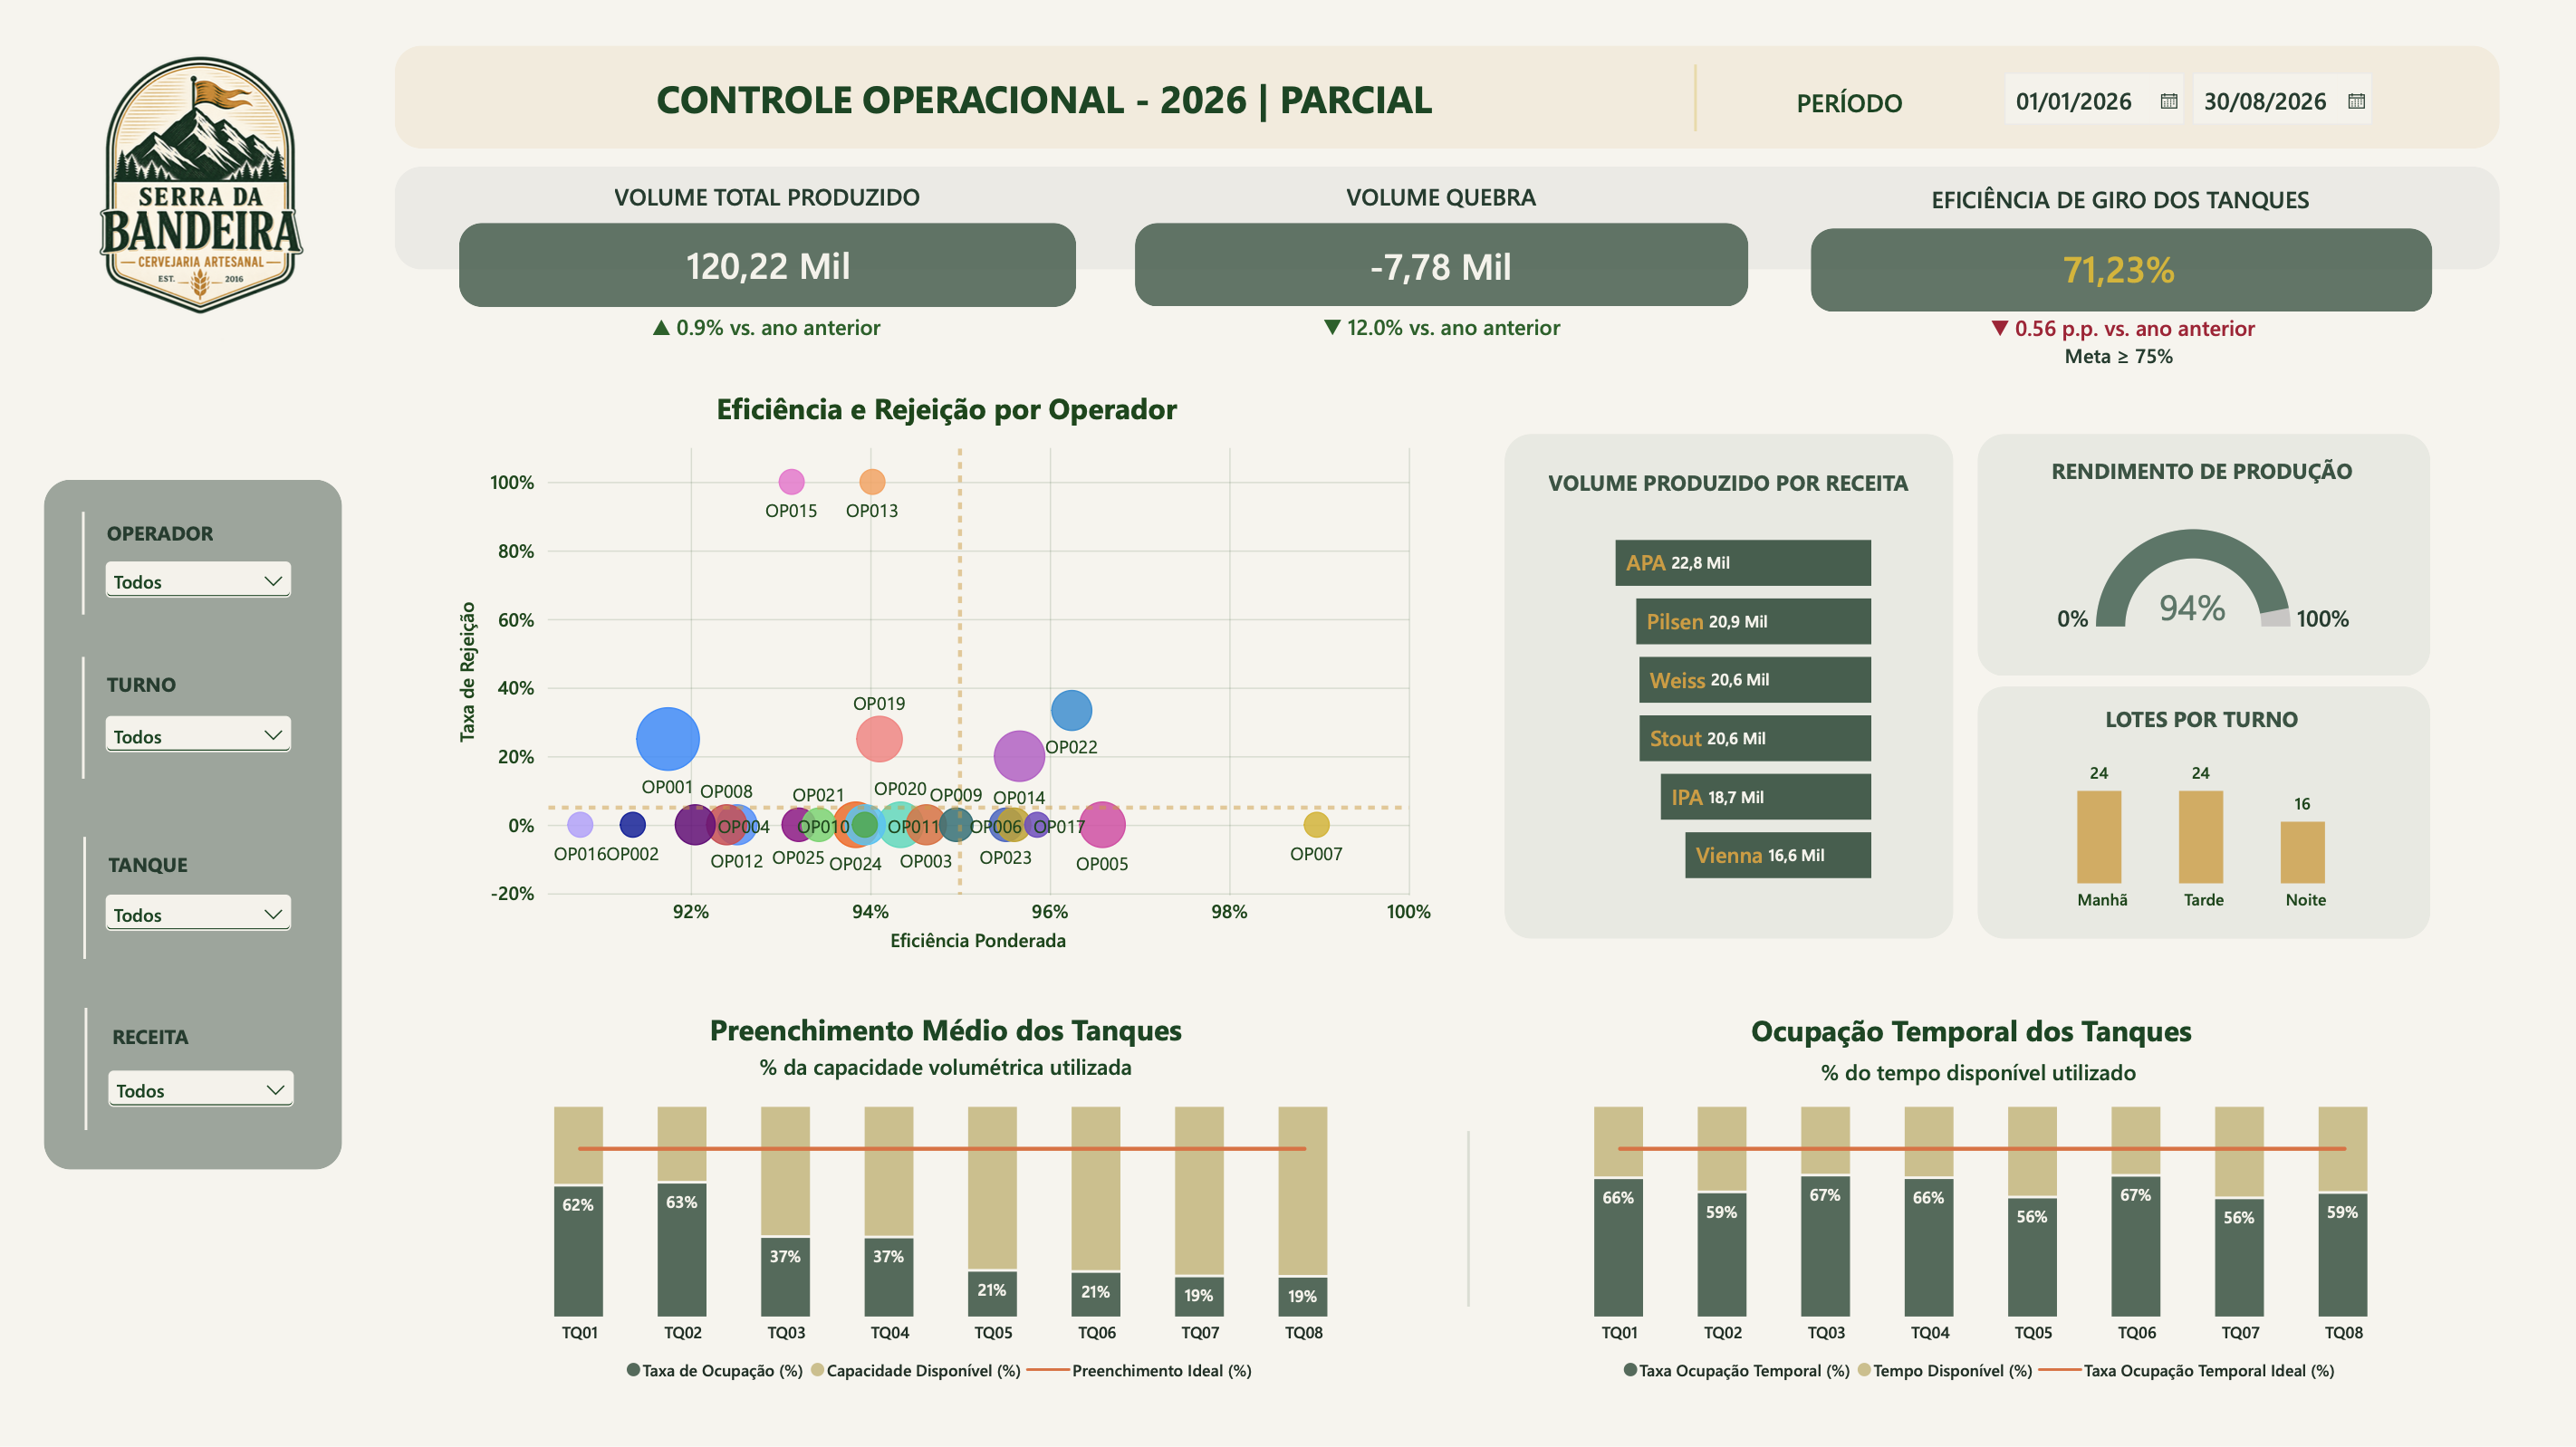

The page's visual inventory and layout, read from the dashboard file:
{"tool":"powerbi","page":{"name":"Resumo Operacional 26' - Parcial","canvas":[1920,1080],"ordinal":8},"visuals":[{"type":"shape","box":[1121,326.2,334.1,375.8],"z":0},{"type":"shape","box":[1473,326.2,337.1,180.5],"z":1000},{"type":"shape","box":[295,126.7,1566.7,76.7],"z":2000},{"type":"shape","box":[343,168.5,459.4,62.6],"z":3000},{"type":"shape","box":[342.7,115,458.9,67.1],"z":4000},{"type":"shape","box":[846.1,169,456.5,62.3],"z":5000},{"type":"shape","box":[846.1,115,456.5,67.1],"z":6000},{"type":"shape","box":[1349.2,172.5,462.5,62.3],"z":7000},{"type":"image","box":[46.7,23.3,206.7,238.3],"z":8000},{"type":"shape","box":[295,36.7,1566.7,76.7],"z":9000},{"type":"shape","box":[295,36.7,968.3,76.7],"z":10000},{"type":"shape","box":[1214.3,51.4,98.3,50],"z":11000},{"type":"shape","box":[1312.9,40,130,77.1],"z":12000},{"type":"slicer","fields":{"Values":["DATA.Date"]},"box":[1485,51.7,355,65],"z":13000},{"type":"shape","box":[1082.4,743.8,773.6,50.2],"z":14000},{"type":"shape","box":[366.6,730.4,676.8,76.1],"z":15000},{"type":"shape","box":[34.3,360.1,221.9,513.7],"z":16000},{"type":"shape","box":[80.8,377.9,128.4,42],"z":17000},{"type":"slicer","fields":{"Values":["OPERADORES.Nome_completo"]},"box":[75.4,409.1,147.5,57.8],"z":18000},{"type":"shape","box":[51.2,384.1,24.7,76.5],"z":19000},{"type":"shape","box":[80.8,491.1,128.4,42],"z":20000},{"type":"slicer","fields":{"Values":["OPERADORES.Turno"]},"box":[75.4,523.6,147.5,57.8],"z":21000},{"type":"shape","box":[51.2,492.4,24.7,91.4],"z":22000},{"type":"shape","box":[82.1,625.3,128.4,42],"z":23000},{"type":"slicer","fields":{"Values":["TANQUE.ID_Tanque"]},"box":[75.4,656.9,147.5,57.8],"z":24000},{"type":"shape","box":[52.4,626.5,24.7,91.4],"z":25000},{"type":"cardVisual","fields":{"Data":["PRODUCAO.Volume_Quebra"]},"box":[846.1,173.7,456.5,51.5],"z":26000},{"type":"cardVisual","fields":{"Data":["PRODUCAO.Volume_Total_Produzido"]},"box":[344.5,173,457.7,51.5],"z":27000},{"type":"shape","box":[85.4,753.1,128.4,42],"z":28000},{"type":"shape","box":[52.7,753.1,24.7,91.4],"z":29000},{"type":"slicer","fields":{"Values":["RECEITA.Receita"]},"box":[76.8,787.5,147.5,57.8],"z":30000},{"type":"lineStackedColumnComboChart","fields":{"Category":["TANQUE.ID_Tanque"],"Y":["PRODUCAO.Taxa_Ocupacao_Preenchimento","PRODUCAO.Capacidade_Disponivel"],"Y2":["PRODUCAO.Capacidade_Utilizavel"]},"box":[366.6,803.7,671.2,234.1],"z":31000},{"type":"lineStackedColumnComboChart","fields":{"Category":["TANQUE.ID_Tanque"],"Y":["PRODUCAO.Taxa_Ocupacao_Tempo","PRODUCAO.Tempo_Disponivel"],"Y2":["PRODUCAO.Capacidade_Utilizavel"]},"box":[1140.7,803.7,671.2,234.1],"z":32000},{"type":"shape","box":[1427,115.8,305.5,68.4],"z":33000},{"type":"cardVisual","fields":{"Data":["PRODUCAO.Eficiencia_Giro_Tanques"]},"box":[1348,176.1,462.5,52.7],"z":34000},{"type":"shape","box":[1086.6,774.8,774.1,50.8],"z":35000},{"type":"shape","box":[366.6,772.7,676.8,47.9],"z":36000},{"type":"shape","box":[1441.7,243.3,273.3,48.3],"z":37000},{"type":"gauge","fields":{"Y":["PRODUCAO.Eficiencia_Producao"]},"box":[1487.9,382.9,307.2,107.4],"z":38000},{"type":"shape","box":[1471.5,323.2,338.6,59.7],"z":39000},{"type":"shape","box":[342.6,276.4,726.2,59.2],"z":40000},{"type":"shape","box":[1118,323.2,340.1,76.1],"z":41000},{"type":"clusteredBarChart","fields":{"Category":["RECEITA.Receita"],"Y":["PRODUCAO.Volume_Total_Produzido"]},"box":[1126.9,382.9,283.4,290.8],"z":42000},{"type":"shape","box":[1473,514.1,337.1,187.9],"z":43000},{"type":"shape","box":[1471.5,512.6,338.6,49.2],"z":44000},{"type":"shape","box":[1045,844.6,98.4,131.2],"z":45000},{"type":"clusteredColumnChart","fields":{"Category":["OPERADORES.Turno"],"Y":["PRODUCAO.Numero_Lotes"]},"box":[1501.3,545.5,281.9,156.6],"z":46000},{"type":"cardVisual","fields":{"Data":["PRODUCAO.Variacao_Volume_Produzido_percentual"]},"box":[343.3,230,458.3,31.7],"z":47000},{"type":"cardVisual","fields":{"Data":["PRODUCAO.Variacao_Eficiencia_Giro_pp"]},"box":[1350,233.3,463.3,26.7],"z":48000},{"type":"cardVisual","fields":{"Data":["PRODUCAO.Variacao_Volume_Quebra_percentual"]},"box":[843.3,231.7,463.3,26.7],"z":49000},{"type":"scatterChart","fields":{"Category":["OPERADORES.ID_Operador"],"Size":["PRODUCAO.Numero_Lotes"],"X":["PRODUCAO.Eficiencia_Ponderada_Producao"],"Y":["PRODUCAO.Taxa_Rej_Operadores"]},"box":[327.1,313,755.8,414.6],"z":50000}]}

Visuals, with their boxes in screenshot pixels (x1, y1, x2, y2), scaled from the page's 1920x1080 canvas onto the 2576x1447 screenshot:
shape: (1504, 437, 1952, 941)
shape: (1976, 437, 2428, 679)
shape: (396, 169, 2498, 273)
shape: (460, 225, 1077, 310)
shape: (460, 154, 1075, 244)
shape: (1135, 226, 1747, 310)
shape: (1135, 154, 1747, 244)
shape: (1811, 231, 2431, 314)
image: (62, 31, 340, 350)
shape: (396, 49, 2498, 152)
shape: (396, 49, 1695, 152)
shape: (1629, 69, 1761, 136)
shape: (1762, 53, 1936, 157)
slicer - DATA.Date: (1993, 69, 2469, 157)
shape: (1452, 997, 2490, 1064)
shape: (492, 979, 1400, 1080)
shape: (46, 483, 343, 1171)
shape: (109, 506, 281, 562)
slicer - OPERADORES.Nome_completo: (101, 548, 299, 626)
shape: (69, 514, 101, 618)
shape: (109, 658, 281, 714)
slicer - OPERADORES.Turno: (101, 702, 299, 779)
shape: (69, 660, 101, 782)
shape: (111, 838, 283, 894)
slicer - TANQUE.ID_Tanque: (101, 880, 299, 957)
shape: (71, 839, 103, 962)
cardVisual - PRODUCAO.Volume_Quebra: (1135, 233, 1747, 302)
cardVisual - PRODUCAO.Volume_Total_Produzido: (462, 232, 1076, 301)
shape: (114, 1009, 287, 1065)
shape: (71, 1009, 104, 1132)
slicer - RECEITA.Receita: (103, 1055, 301, 1133)
lineStackedColumnComboChart - TANQUE.ID_Tanque x PRODUCAO.Taxa_Ocupacao_Preenchimento: (492, 1077, 1392, 1391)
lineStackedColumnComboChart - TANQUE.ID_Tanque x PRODUCAO.Taxa_Ocupacao_Tempo: (1531, 1077, 2431, 1391)
shape: (1915, 155, 2324, 247)
cardVisual - PRODUCAO.Eficiencia_Giro_Tanques: (1809, 236, 2429, 307)
shape: (1458, 1038, 2496, 1107)
shape: (492, 1035, 1400, 1099)
shape: (1935, 326, 2301, 390)
gauge - PRODUCAO.Eficiencia_Producao: (1996, 513, 2408, 656)
shape: (1975, 433, 2428, 513)
shape: (459, 370, 1434, 450)
shape: (1500, 433, 1956, 535)
clusteredBarChart - RECEITA.Receita x PRODUCAO.Volume_Total_Produzido: (1512, 513, 1892, 903)
shape: (1976, 689, 2428, 941)
shape: (1975, 686, 2428, 752)
shape: (1402, 1132, 1534, 1308)
clusteredColumnChart - OPERADORES.Turno x PRODUCAO.Numero_Lotes: (2014, 731, 2392, 941)
cardVisual - PRODUCAO.Variacao_Volume_Produzido_percentual: (461, 308, 1075, 350)
cardVisual - PRODUCAO.Variacao_Eficiencia_Giro_pp: (1812, 312, 2433, 349)
cardVisual - PRODUCAO.Variacao_Volume_Quebra_percentual: (1131, 311, 1753, 346)
scatterChart - OPERADORES.ID_Operador x PRODUCAO.Numero_Lotes: (439, 419, 1453, 975)
